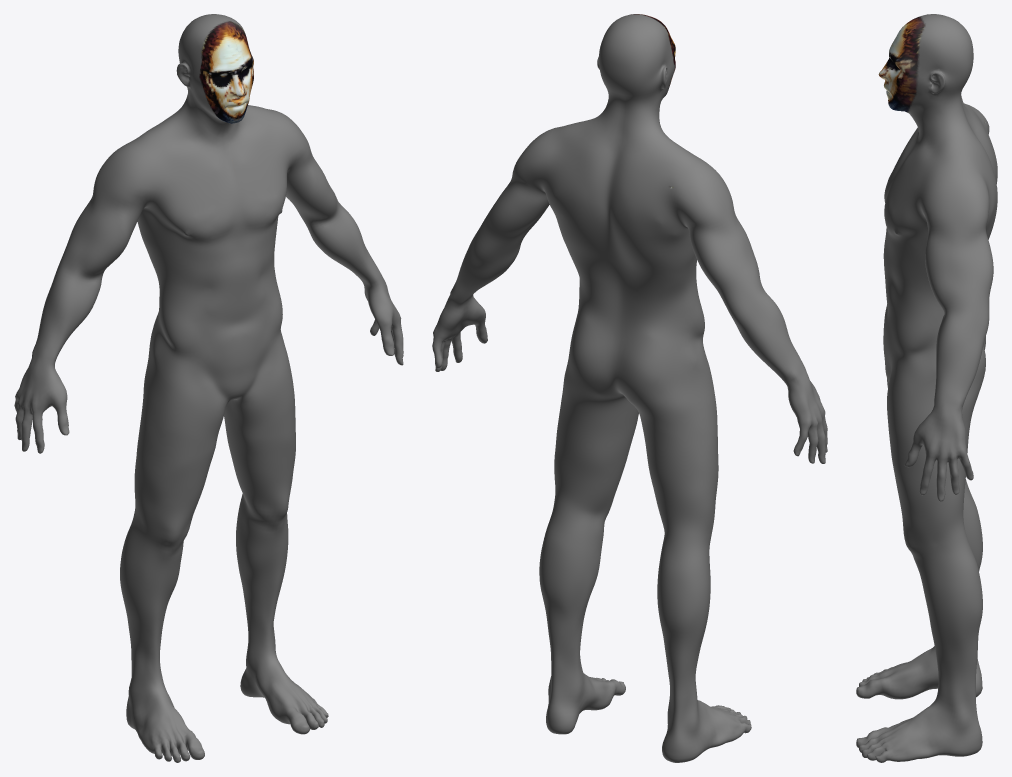
Rendered from valou.glb.
The picture shows the model from 3 angles, left to right: view 1: azimuth 30°, elevation 25°; view 2: azimuth 150°, elevation 25°; view 3: azimuth 270°, elevation 25°; orthographic projection.
Visible parts, largest first — view 1: node_id3; view 2: node_id3; view 3: node_id3.
Boxes of the visible parts, <box> form: node_id3: <box>14,14,403,762</box>; node_id3: <box>432,14,827,762</box>; node_id3: <box>856,14,997,762</box>.
Size of the model in its own units: 0.2885 by 0.512 by 0.0931.
1 material, 1 textured.
